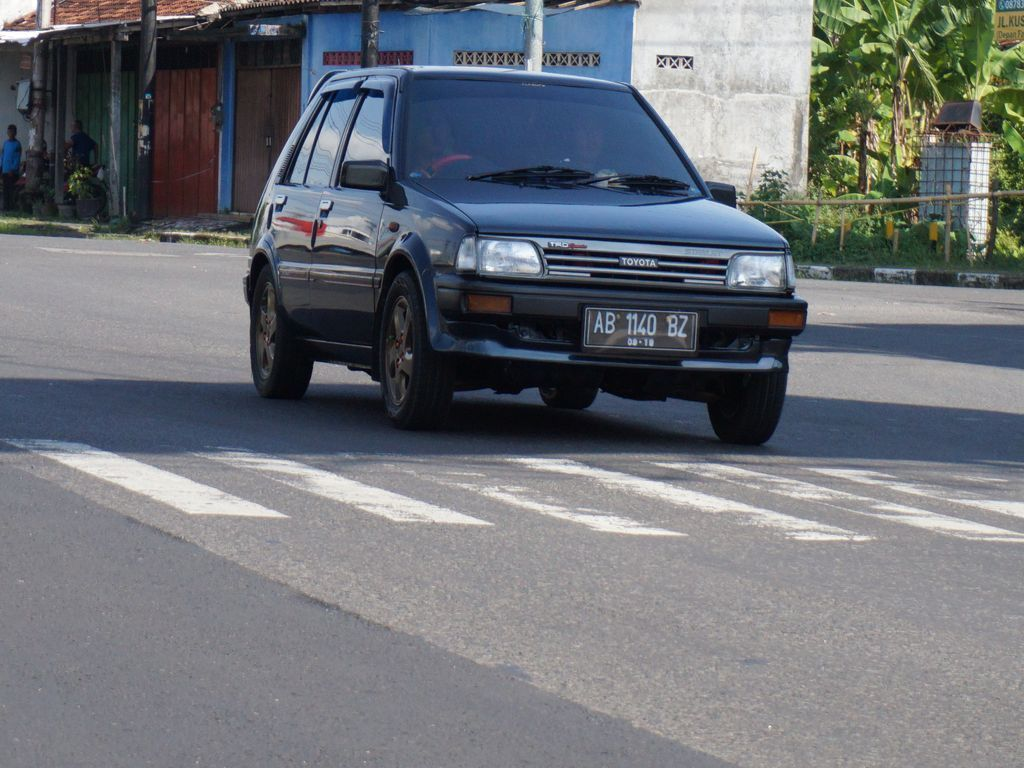plate: (592, 310, 689, 345)
